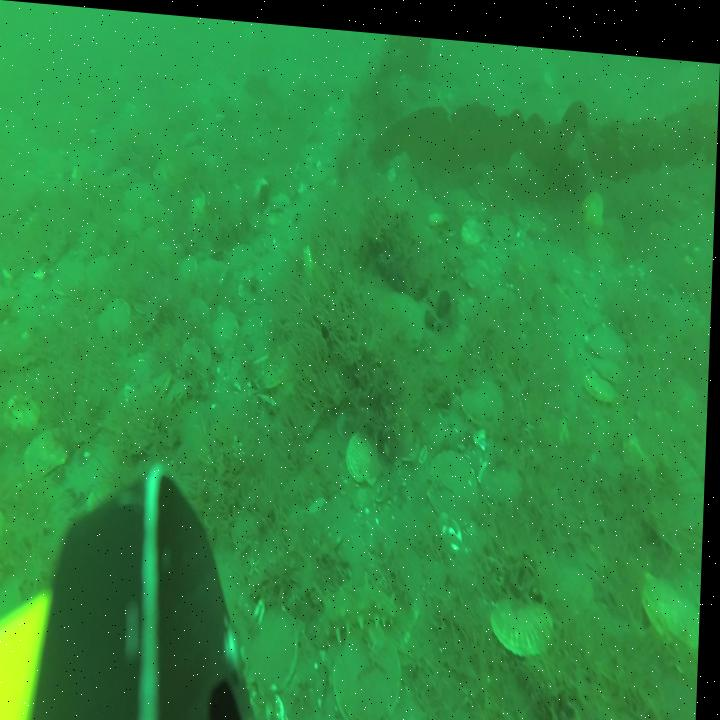holothurian: (315, 569, 404, 646)
scallop: (339, 622, 408, 715), (645, 553, 705, 650), (254, 599, 304, 691), (495, 581, 557, 649), (433, 444, 482, 525), (376, 679, 443, 720), (27, 422, 70, 484), (463, 360, 507, 419), (349, 414, 387, 480), (390, 278, 427, 345), (591, 690, 672, 720), (381, 389, 418, 452), (486, 448, 523, 501), (5, 388, 43, 437), (52, 248, 87, 301), (180, 326, 214, 372), (208, 302, 240, 350), (589, 308, 625, 348), (99, 294, 130, 339), (587, 355, 615, 395), (460, 206, 491, 241), (491, 198, 518, 236), (582, 182, 609, 217), (594, 341, 623, 373)
